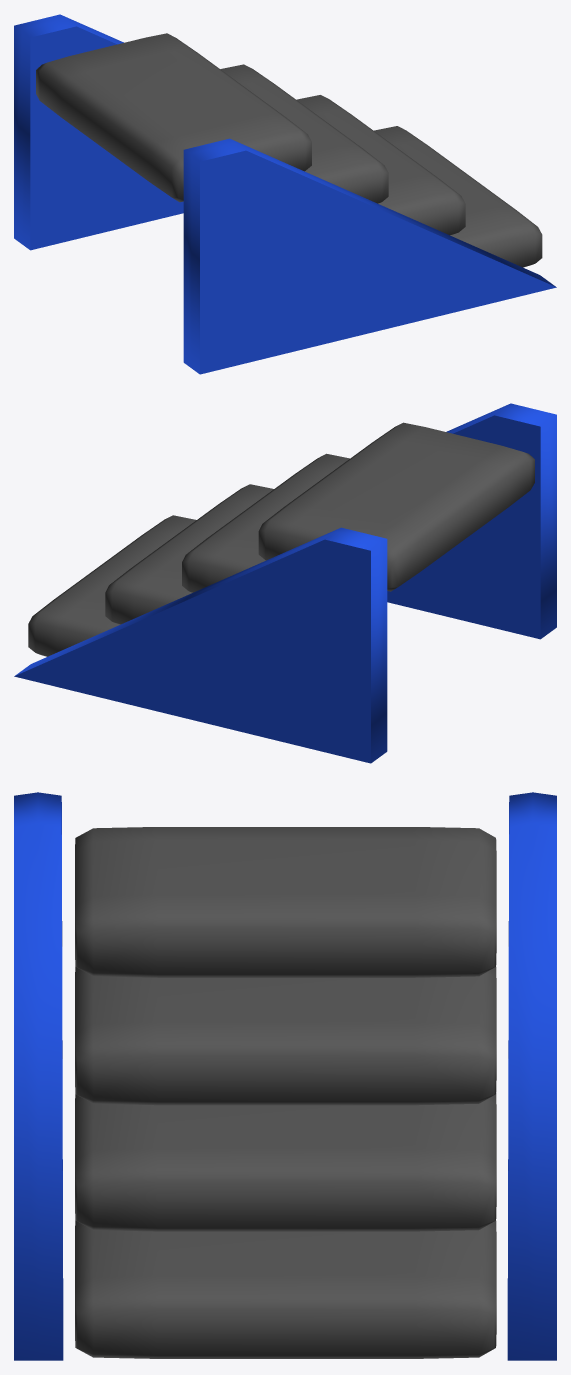
Rendered from Escalera 01 Azul.fbx.
3 views of the same model, one above another, from view 1: azimuth 30°, elevation 25°; view 2: azimuth 150°, elevation 25°; view 3: azimuth 270°, elevation 25° (orthographic). The views are drawn at different scales.
Visible parts, largest first — view 1: Cube.004; view 2: Cube.004; view 3: Cube.004.
Boxes of the visible parts, box(x1,y1,x2,y2) form: Cube.004: box(14, 14, 556, 374); Cube.004: box(14, 403, 556, 763); Cube.004: box(14, 792, 556, 1360).
Bounding box in the file's own units: 135 × 75.62 × 119.
